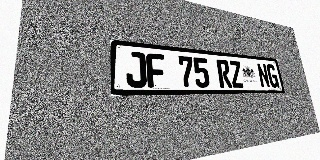5: (193, 57, 211, 88)
7: (177, 56, 196, 88)
F: (146, 53, 166, 88)
G: (266, 64, 280, 88)
J: (125, 51, 147, 88)
N: (256, 63, 271, 88)
R: (216, 59, 233, 88)
Z: (228, 60, 244, 88)
